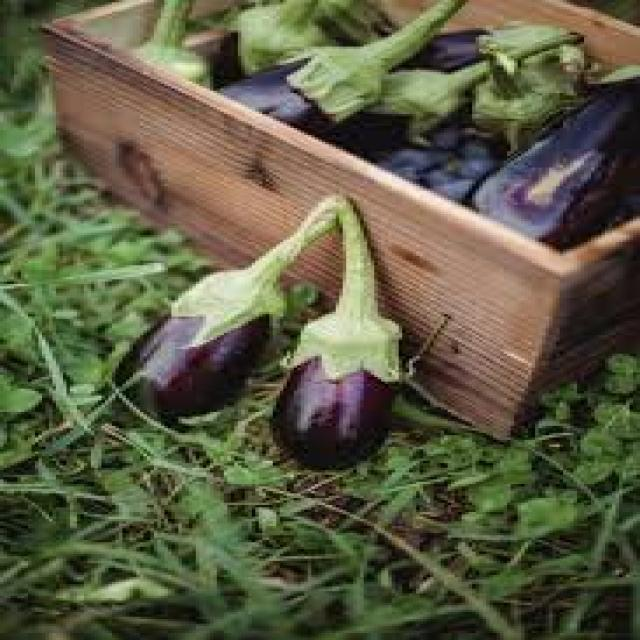Eggplant: (109, 232, 333, 419), (461, 59, 640, 245), (191, 24, 450, 136), (273, 276, 412, 464)
